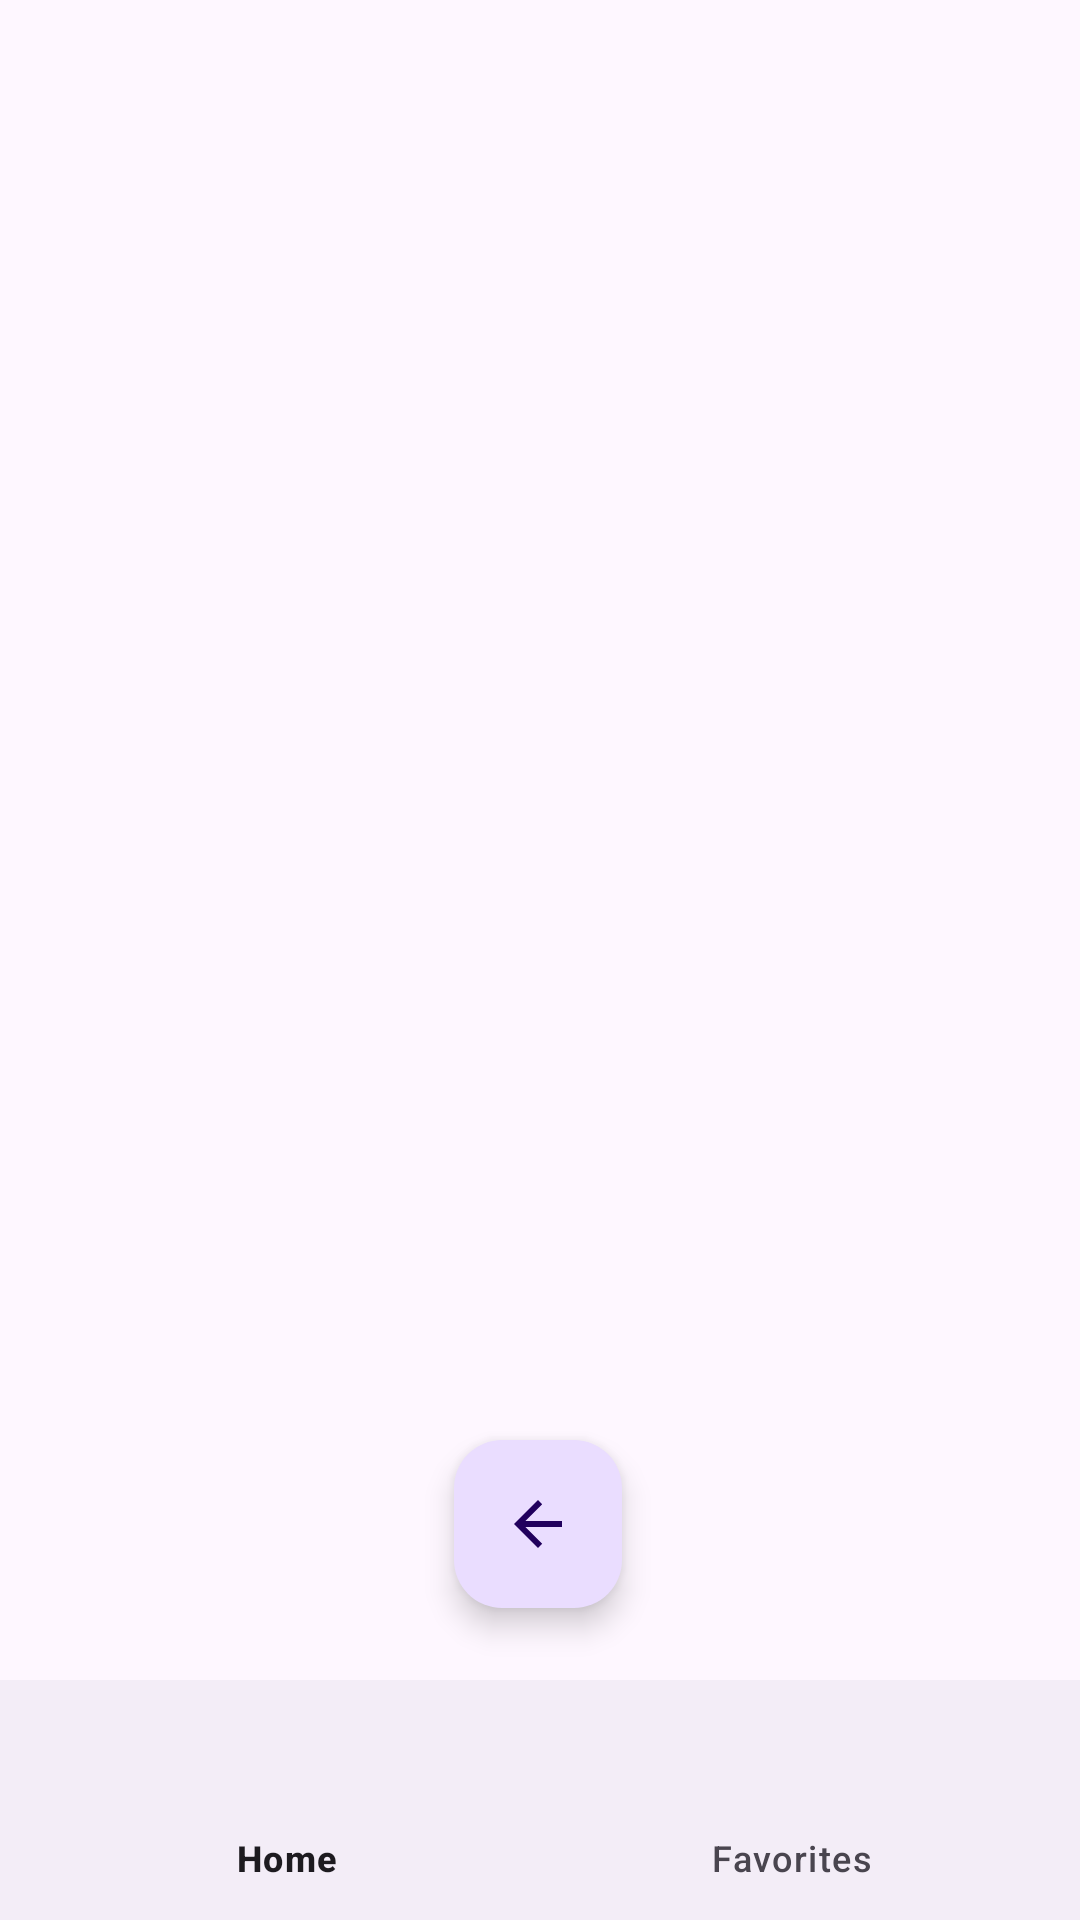

Icons on this 1080*1920 Android screen, each with its box as Rect(x1, y1, x2, y2):
return: Rect(454, 1440, 622, 1608)
